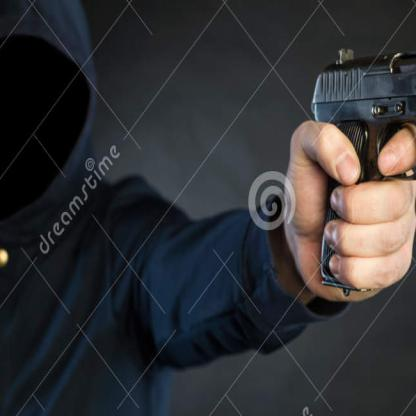gun: (309, 27, 415, 295)
